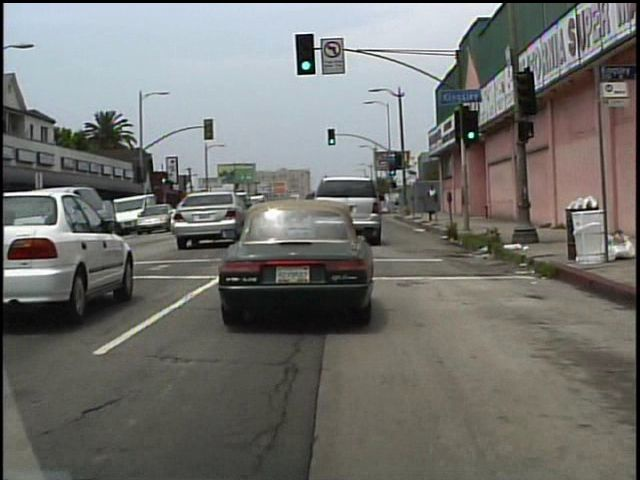person: (426, 183, 440, 214)
